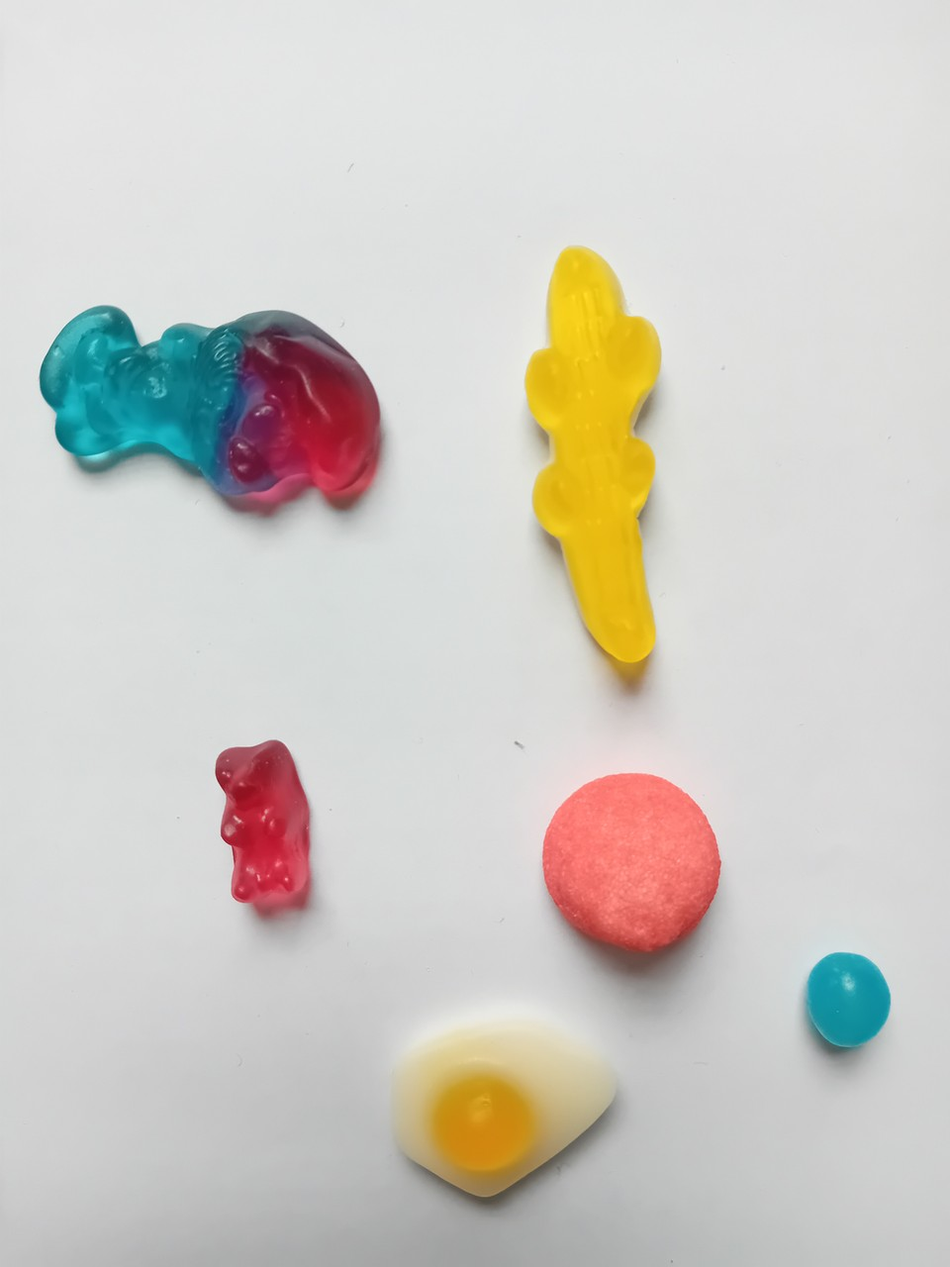crocodile_jaune: (511, 230, 686, 671)
dragibus_bleu: (802, 948, 892, 1049)
oeuf_oeuf: (367, 1008, 626, 1200)
ourson_rouge: (200, 732, 320, 912)
schtroumpf_bleu-rouge: (23, 286, 387, 518)
tagada_fraise: (536, 765, 730, 970)
